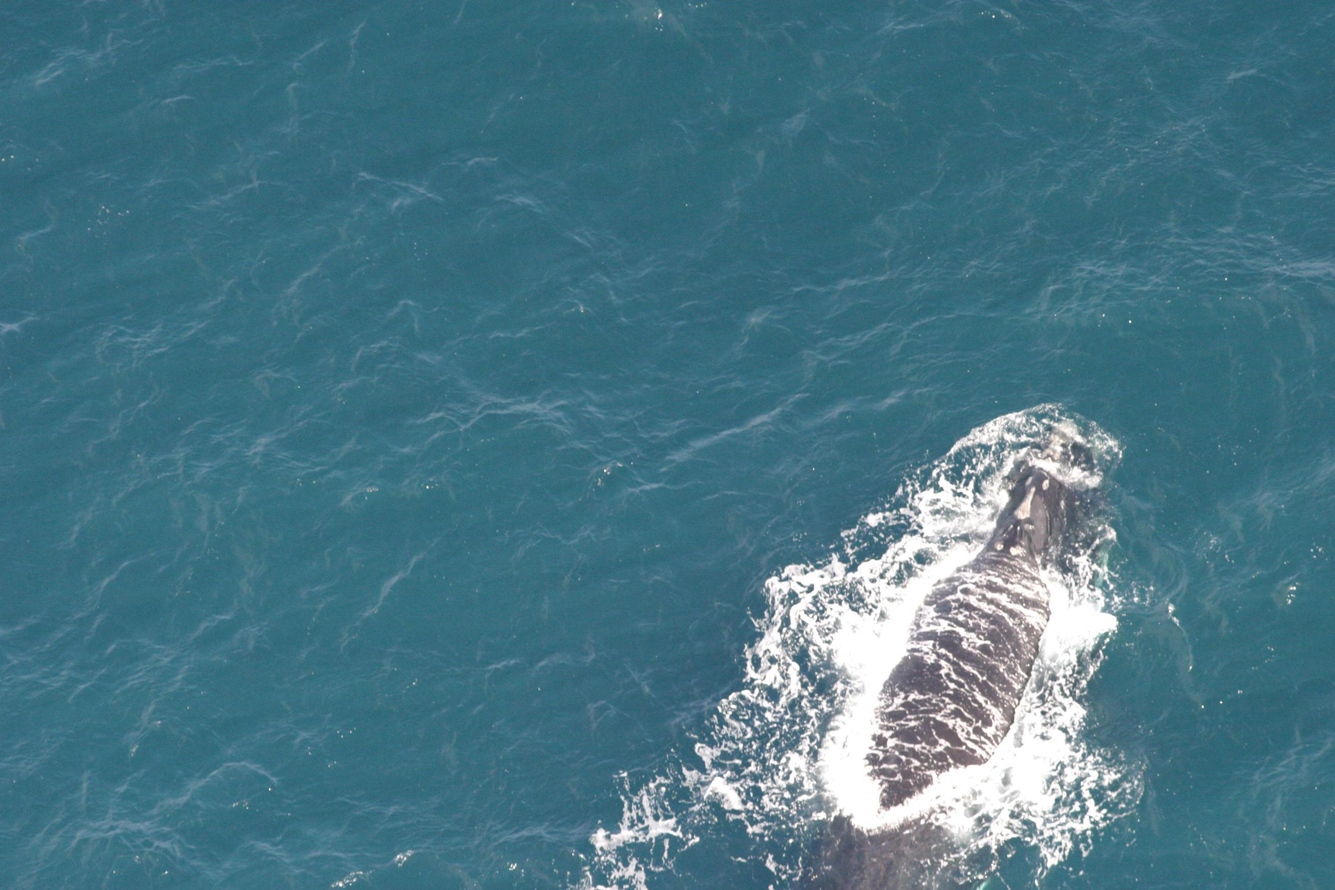whale: (771, 417, 1113, 890)
